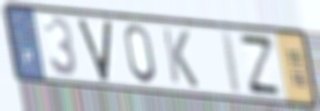0: (123, 23, 158, 86)
3: (41, 15, 79, 80)
I: (219, 28, 244, 96)
K: (160, 25, 201, 90)
V: (76, 18, 113, 84)
Z: (236, 32, 285, 99)
